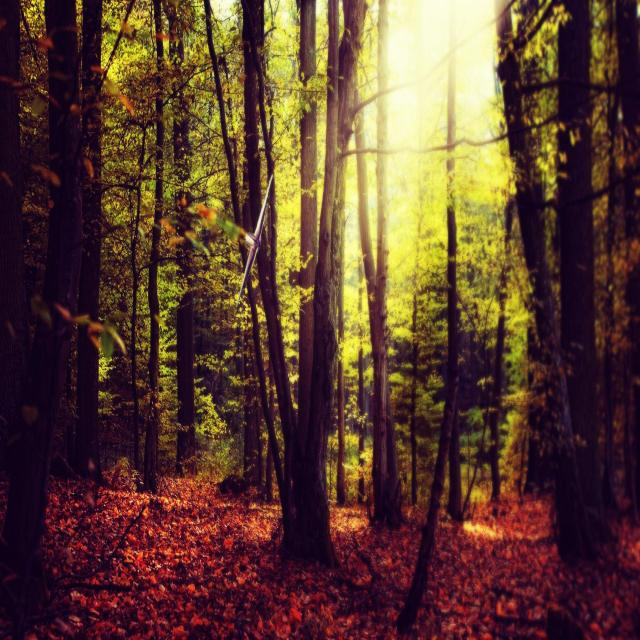airplane: (234, 173, 273, 308)
